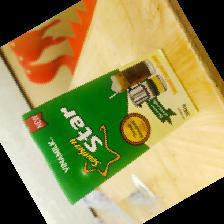NSPN_Hop: (21, 48, 198, 206)
